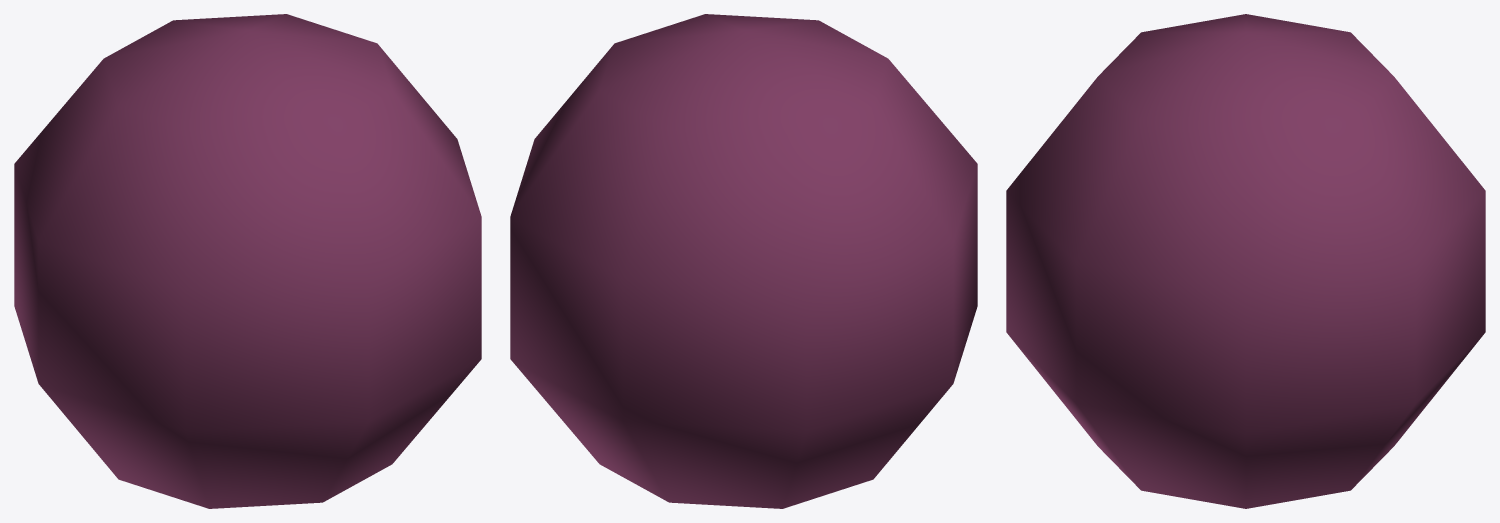
Rendered from SM_TD2_CableJoint.gltf.
The picture shows the model from 3 angles, left to right: view 1: azimuth 30°, elevation 25°; view 2: azimuth 150°, elevation 25°; view 3: azimuth 270°, elevation 25°; orthographic projection.
Parts seen in each view (by area): view 1: SM_TD2_CableJoint; view 2: SM_TD2_CableJoint; view 3: SM_TD2_CableJoint.
Part boxes in pixels (x1=…): SM_TD2_CableJoint: x1=14, y1=14, x2=481, y2=508; SM_TD2_CableJoint: x1=510, y1=14, x2=977, y2=508; SM_TD2_CableJoint: x1=1006, y1=14, x2=1485, y2=508.
Bounding box in the file's own units: 0.0571 × 0.06 × 0.0571.
